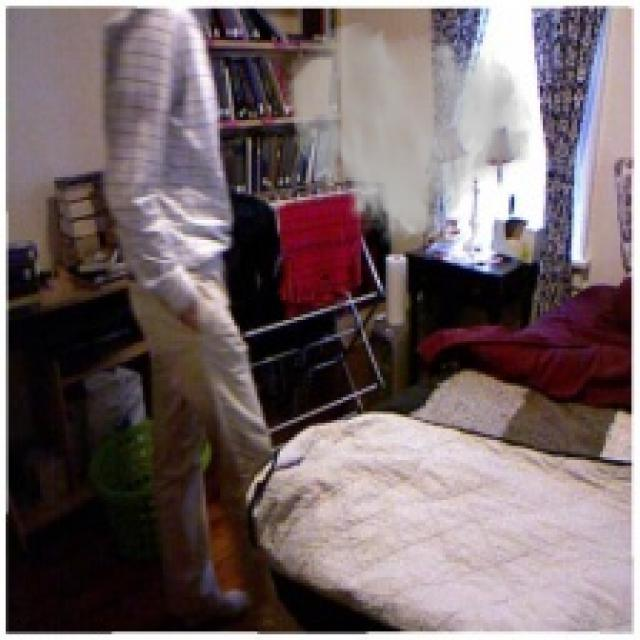smoke: (280, 20, 534, 251)
